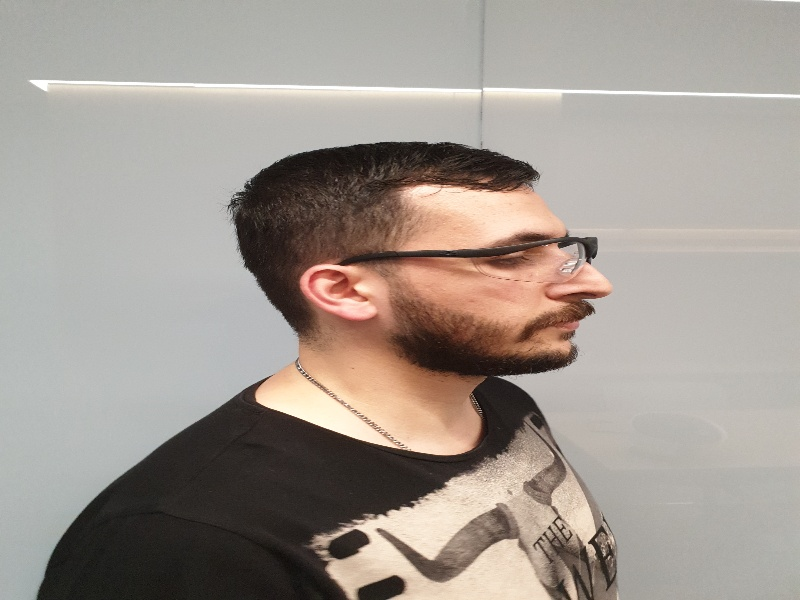Gozluk: (346, 237, 601, 283)
